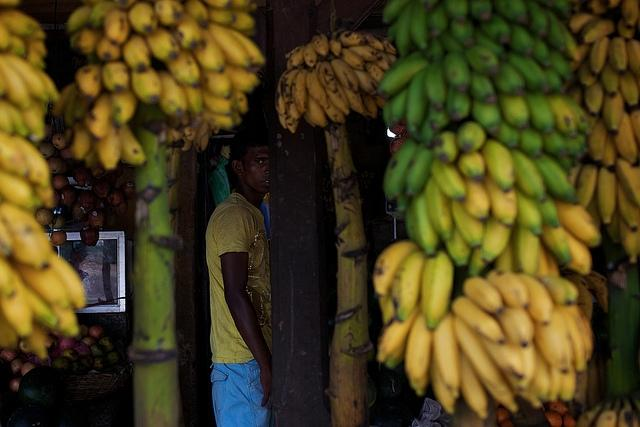banana: (454, 316, 520, 413), (0, 193, 53, 270), (530, 310, 574, 375), (421, 244, 454, 330), (552, 196, 602, 248), (376, 306, 420, 364), (392, 250, 426, 322), (17, 264, 70, 310), (374, 241, 418, 296), (432, 310, 460, 396), (532, 152, 578, 204), (0, 54, 48, 103), (384, 138, 419, 204), (0, 266, 33, 336), (208, 21, 254, 70), (10, 132, 50, 188), (459, 346, 489, 419), (512, 274, 554, 326), (411, 187, 441, 258), (556, 305, 586, 374), (480, 138, 518, 192), (378, 58, 429, 98), (404, 312, 432, 384), (49, 252, 85, 308), (484, 170, 518, 229), (494, 302, 536, 349), (509, 49, 552, 94), (449, 198, 487, 248), (510, 150, 546, 202), (481, 336, 524, 379), (0, 169, 43, 209), (92, 118, 123, 172), (26, 285, 61, 332), (0, 56, 31, 108), (226, 26, 266, 66), (556, 94, 594, 136), (406, 68, 430, 134), (464, 276, 503, 314), (514, 184, 543, 235), (496, 89, 532, 130), (506, 345, 538, 391), (481, 217, 512, 264), (158, 70, 188, 118), (525, 88, 555, 136), (613, 110, 639, 165), (462, 176, 492, 222), (116, 123, 148, 166), (145, 25, 180, 63), (538, 276, 580, 306), (489, 62, 526, 96), (1, 130, 28, 176), (102, 6, 133, 46), (167, 50, 201, 86), (130, 67, 162, 105), (618, 177, 640, 232), (444, 50, 472, 92), (598, 166, 618, 224), (574, 163, 598, 211), (516, 226, 539, 276), (505, 19, 535, 57), (75, 64, 105, 102), (472, 100, 502, 137), (446, 226, 473, 267), (617, 158, 640, 206), (88, 93, 112, 139), (1, 99, 29, 138), (408, 1, 429, 52), (588, 116, 610, 164), (330, 58, 360, 93), (465, 46, 500, 76), (602, 88, 624, 134), (546, 10, 568, 56), (306, 68, 330, 110), (128, 2, 158, 35), (526, 0, 551, 39), (202, 84, 232, 116), (620, 215, 640, 263), (456, 150, 486, 182), (3, 9, 38, 36), (481, 14, 512, 44), (456, 123, 488, 152), (470, 71, 497, 105), (75, 27, 106, 56), (549, 45, 572, 83), (102, 61, 130, 92), (201, 70, 232, 98), (583, 78, 605, 116), (426, 2, 449, 38), (0, 312, 20, 353), (446, 86, 470, 120), (494, 0, 528, 24), (316, 60, 340, 94), (154, 1, 186, 26), (224, 63, 252, 91), (323, 87, 350, 115), (583, 20, 614, 44), (292, 68, 308, 114), (353, 69, 379, 97), (609, 36, 628, 74), (546, 362, 564, 402), (441, 26, 466, 54), (601, 56, 618, 96), (390, 88, 408, 124), (74, 122, 91, 160), (348, 44, 383, 62), (186, 0, 210, 26), (64, 87, 78, 129), (621, 74, 640, 104), (337, 30, 367, 47), (311, 28, 329, 56), (285, 96, 302, 121), (618, 19, 636, 40), (290, 44, 305, 68), (0, 24, 10, 50)
